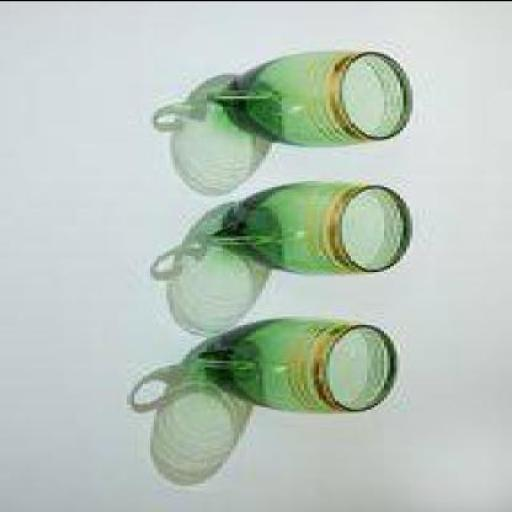glass: (208, 180, 416, 273), (202, 317, 400, 413), (212, 53, 416, 146)
